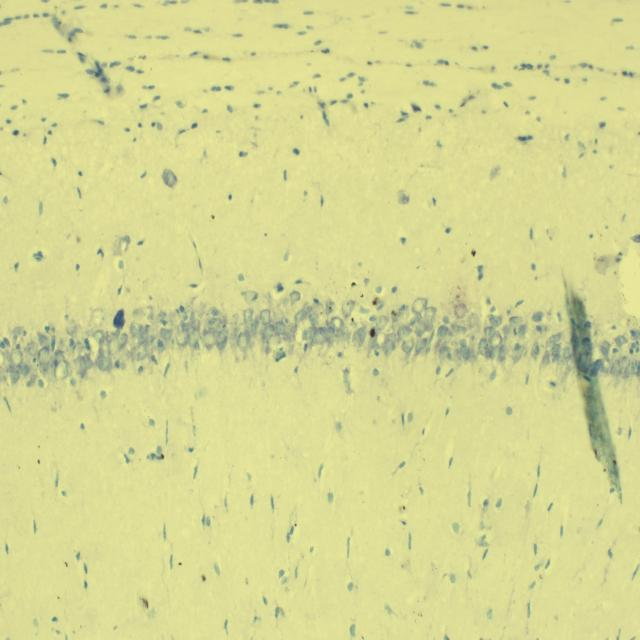neuron: (352, 326, 368, 348), (54, 359, 69, 380), (6, 364, 21, 384), (90, 308, 105, 328), (439, 345, 452, 368), (37, 345, 50, 367), (283, 322, 297, 342), (74, 356, 88, 375), (202, 329, 216, 348), (478, 337, 489, 361), (10, 348, 23, 368), (508, 344, 524, 360), (546, 332, 562, 348), (237, 331, 248, 354), (116, 347, 130, 365), (262, 323, 274, 344), (312, 327, 326, 345), (401, 335, 415, 353), (216, 330, 228, 350), (266, 334, 281, 350), (412, 298, 427, 314), (414, 337, 428, 354), (368, 326, 378, 349), (176, 329, 188, 348), (19, 360, 33, 376), (330, 316, 344, 332), (451, 323, 467, 337), (624, 362, 640, 376), (147, 346, 160, 363), (159, 327, 172, 344), (489, 332, 502, 349), (108, 338, 119, 358), (346, 320, 357, 340), (342, 299, 354, 317), (610, 359, 622, 377), (98, 356, 112, 371), (130, 322, 144, 337), (244, 290, 259, 304), (26, 340, 39, 356), (454, 302, 467, 318), (467, 312, 480, 328), (38, 331, 50, 348), (382, 339, 394, 356), (376, 314, 388, 331), (459, 344, 471, 361), (311, 302, 325, 316), (398, 326, 412, 340), (134, 345, 147, 360), (188, 330, 199, 347), (376, 331, 387, 348), (207, 317, 221, 330), (271, 309, 284, 323), (424, 307, 437, 321), (482, 325, 496, 338), (93, 329, 105, 344), (620, 356, 630, 374), (438, 324, 449, 340), (250, 317, 259, 336), (453, 348, 462, 367), (531, 342, 540, 361), (54, 349, 64, 366), (66, 318, 76, 335), (82, 354, 92, 371), (118, 333, 128, 350), (509, 316, 522, 329), (12, 326, 24, 340), (79, 356, 86, 380), (132, 308, 146, 320), (414, 322, 426, 336), (551, 354, 565, 366), (614, 336, 628, 348), (2, 352, 11, 370), (326, 298, 335, 316), (44, 356, 54, 372), (138, 329, 148, 345), (150, 320, 158, 340), (230, 328, 238, 348), (325, 326, 335, 342), (601, 340, 611, 356), (309, 313, 319, 328), (518, 324, 528, 339), (244, 308, 253, 324), (261, 309, 270, 325), (289, 290, 301, 302), (306, 326, 315, 342), (498, 344, 506, 362), (531, 311, 544, 322), (275, 321, 285, 335), (601, 359, 611, 373), (156, 312, 167, 324), (490, 316, 502, 327), (191, 318, 201, 331), (294, 310, 304, 323), (630, 328, 640, 341), (207, 307, 221, 316), (487, 346, 496, 360), (181, 321, 192, 332), (551, 344, 562, 355), (542, 351, 550, 366), (130, 345, 136, 364), (302, 304, 312, 315), (0, 366, 7, 381), (387, 332, 397, 342), (144, 324, 152, 336), (147, 310, 155, 322), (409, 316, 417, 328), (426, 319, 433, 332), (489, 370, 496, 382), (503, 324, 511, 334)
